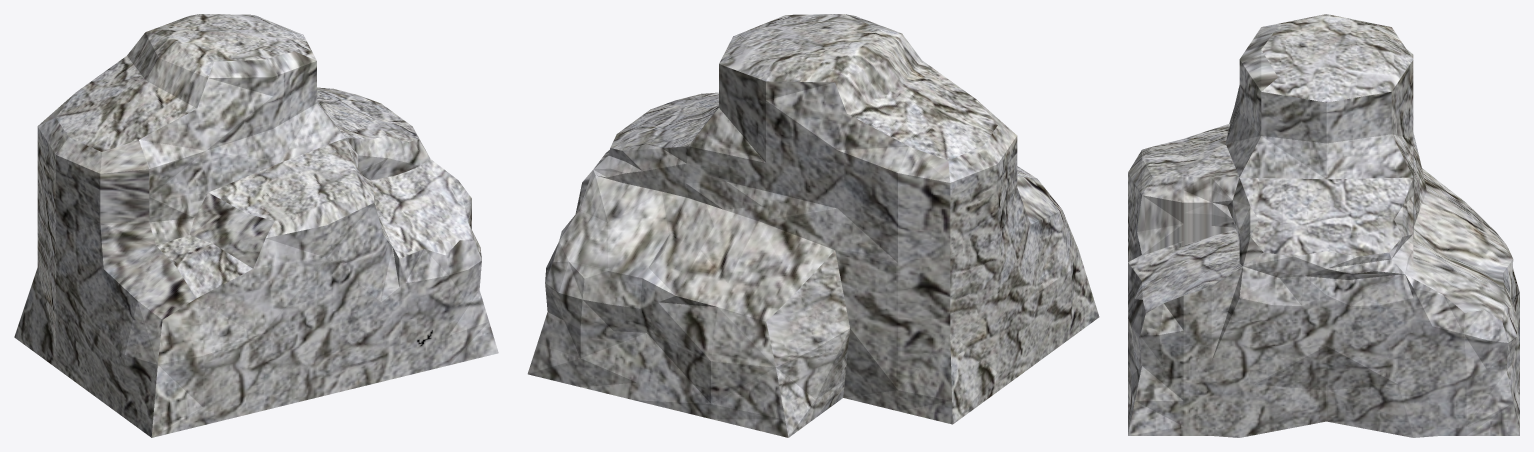
Rendered from Rock.fbx.
The picture shows the model from 3 angles, left to right: view 1: azimuth 30°, elevation 25°; view 2: azimuth 150°, elevation 25°; view 3: azimuth 270°, elevation 25°; orthographic projection. The views are drawn at different scales.
Visible parts, largest first — view 1: pCube1; view 2: pCube1; view 3: pCube1.
Boxes of the visible parts, x1,y1,x2,y2 form: pCube1: (14,14,498,437); pCube1: (527,14,1099,437); pCube1: (1128,14,1519,437).
Size of the model in its own units: 2.39 by 1.96 by 2.25.
1 material, 1 textured.
